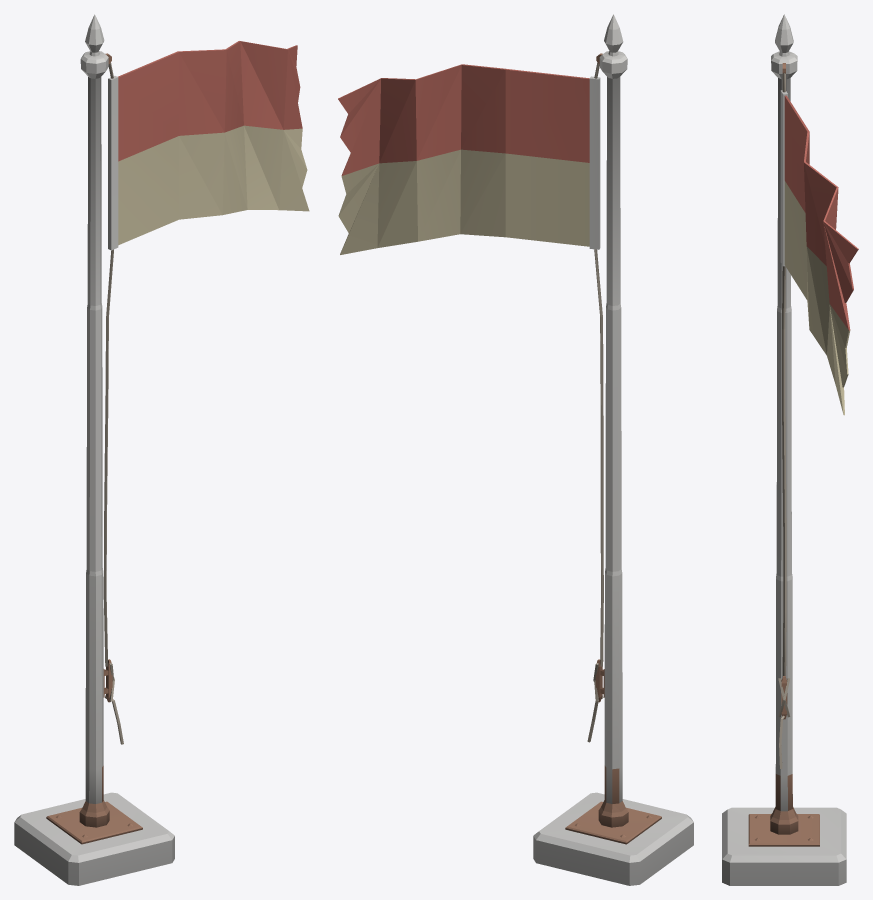
Rendered from flag.glb.
3 renders of one model, left to right at view 1: azimuth 30°, elevation 25°; view 2: azimuth 150°, elevation 25°; view 3: azimuth 270°, elevation 25°, orthographic.
Visible parts, largest first — view 1: flag.001; view 2: flag.001; view 3: flag.001.
Boxes of the visible parts, left/top/right/bottom form: flag.001: left=14, top=14, right=309, bottom=885; flag.001: left=338, top=14, right=693, bottom=885; flag.001: left=722, top=14, right=858, bottom=885.
Size of the model in its own units: 2.23 by 6 by 0.8796.
